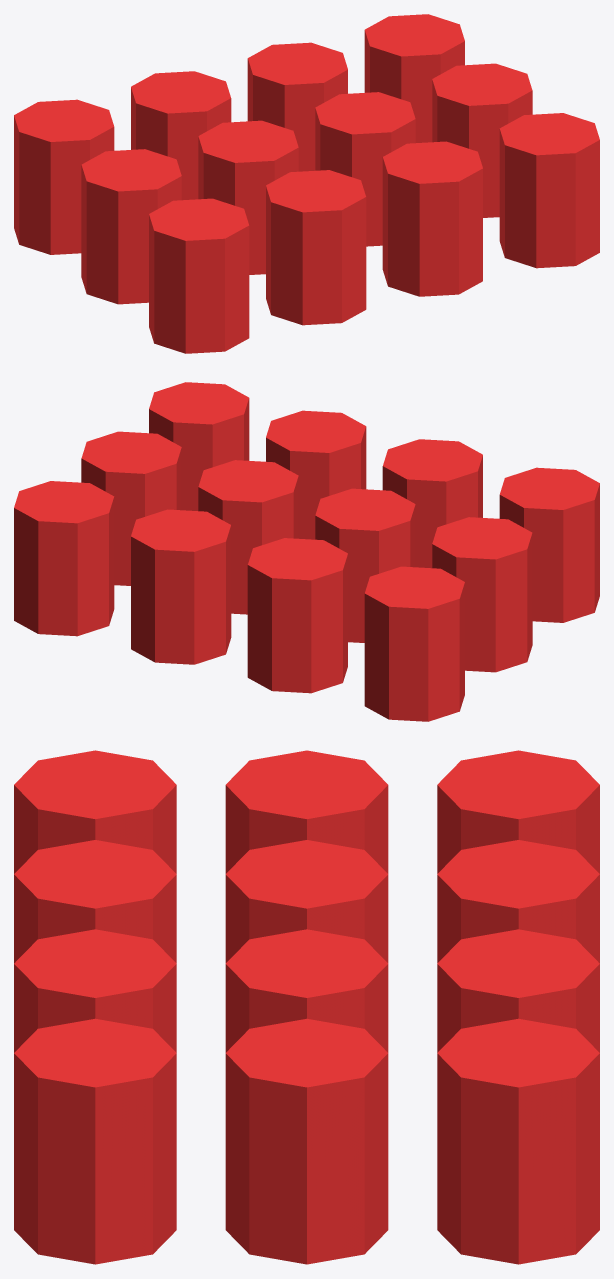
Rendered from cans.fbx.
3 renders of one model, top to bottom at view 1: azimuth 30°, elevation 25°; view 2: azimuth 150°, elevation 25°; view 3: azimuth 270°, elevation 25°, orthographic. The views are drawn at different scales.
Parts seen in each view (by area): view 1: cans; view 2: cans; view 3: cans.
Boxes of the visible parts, <box> form: cans: <box>14,14,599,353</box>; cans: <box>14,382,599,721</box>; cans: <box>14,750,599,1264</box>.
Bounding box in the file's own units: 49 × 12 × 36.
